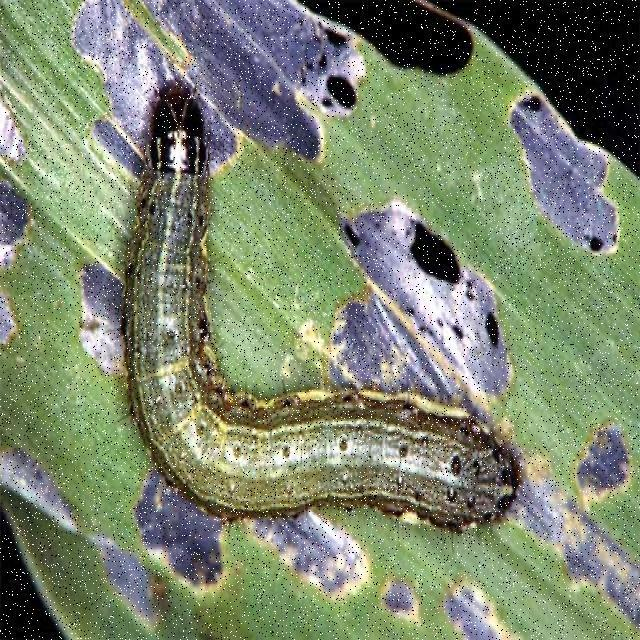army worm: (122, 55, 541, 540)
